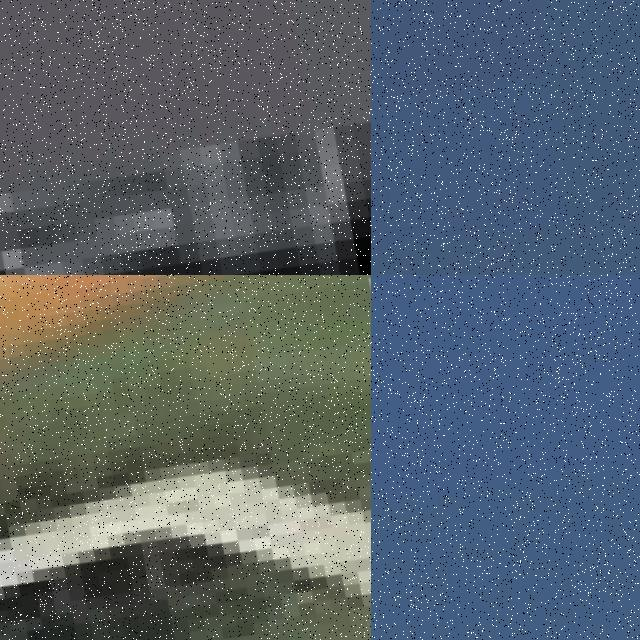drone: (0, 275, 371, 640), (0, 0, 371, 275)
